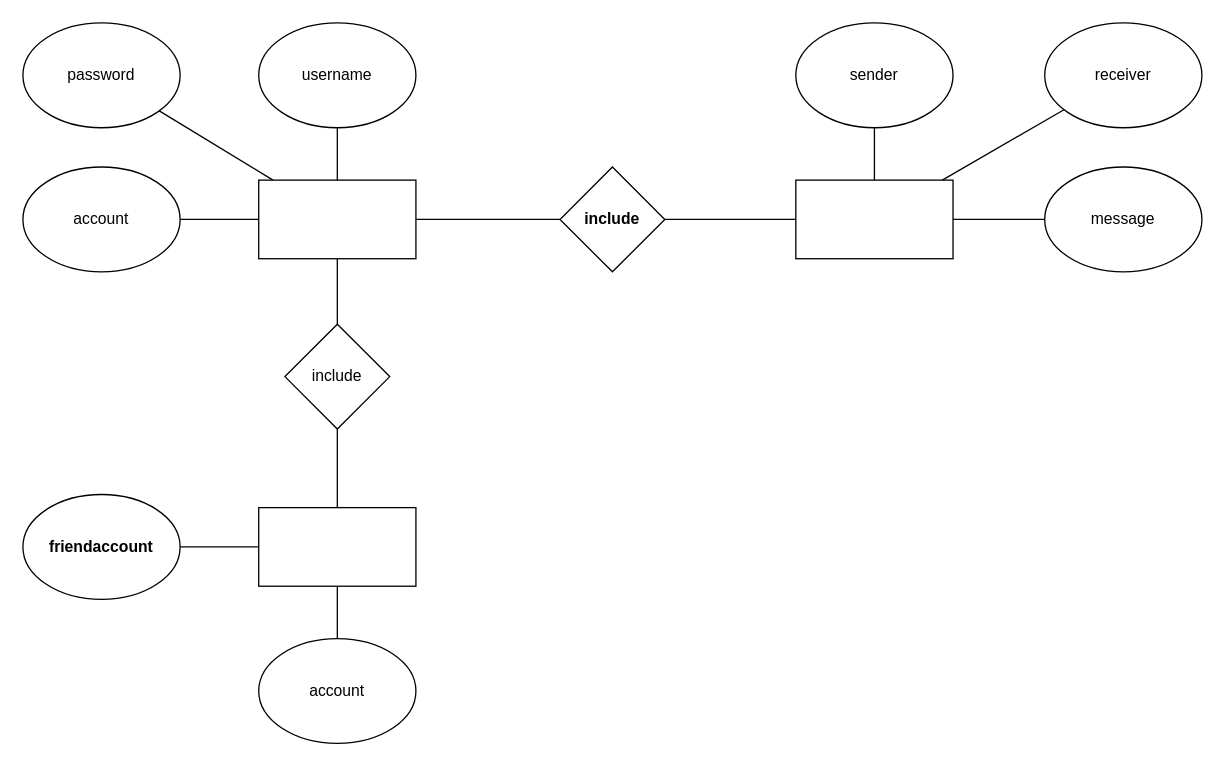
This 1225x766 diagram has some shape labels left out. The shapes that lost their labels are listed below. From the top down, each one's box as (x1, y1, x2, y2) in pixels, then its label:
(257, 179, 416, 259): userinfo
(795, 179, 953, 259): messageinfo
(257, 506, 416, 586): friendinfo
